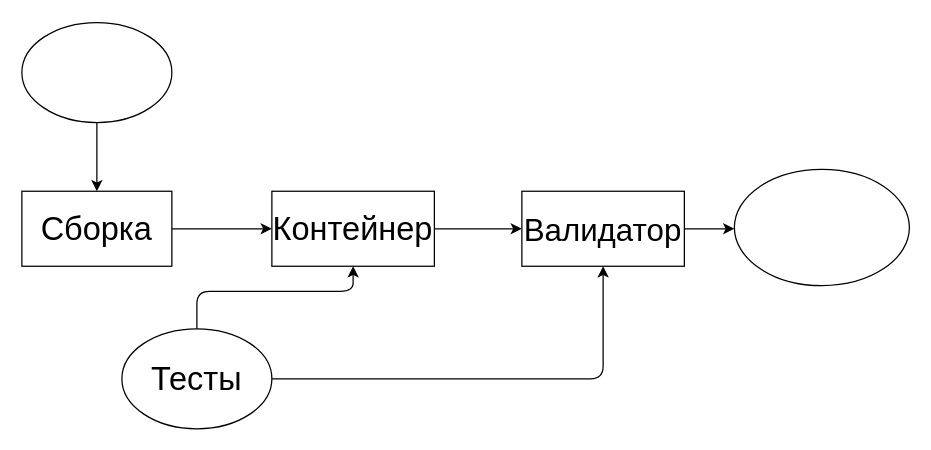
Image size: 931x450. Some labels were removed from this diagram. Each missing label, with the centre of its shape:
"Код" goes at point (96, 71).
"Результаты" goes at point (821, 227).
